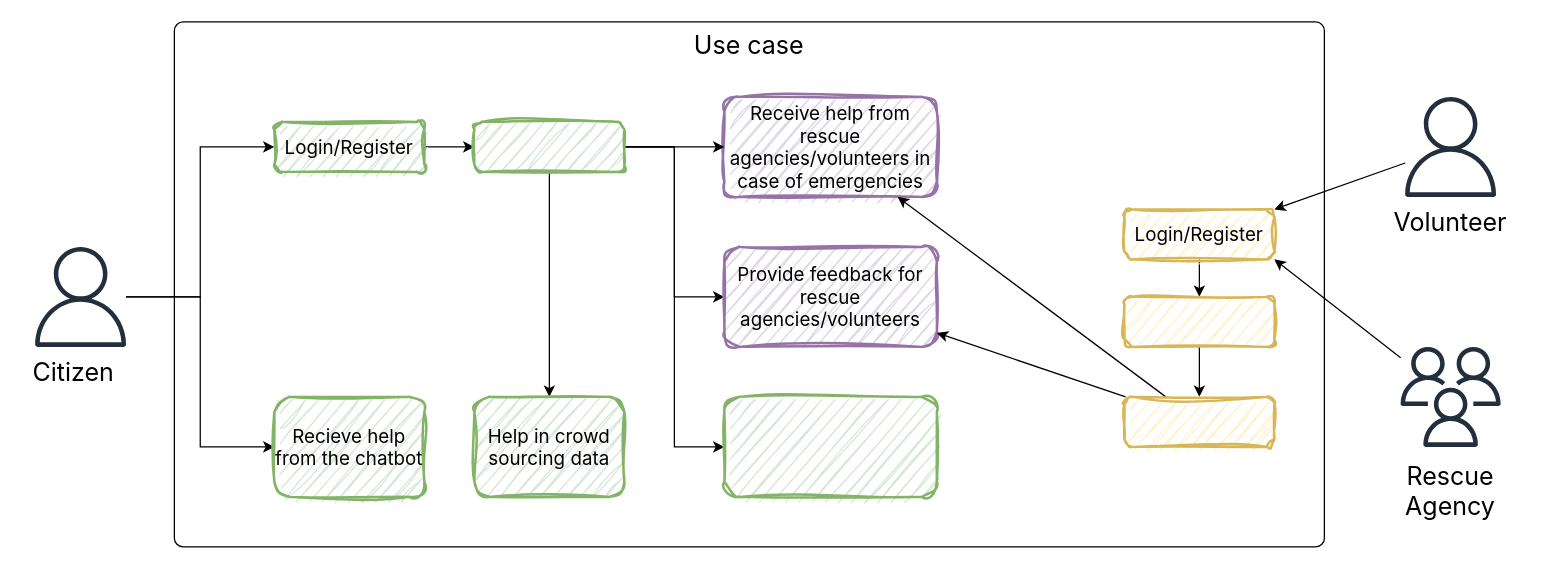
Some shapes in this 1548 by 569 pixel diagram are drawn without their labels. The centre of each missing label's shape, as x and y in pixels:
Get verified: the point at 1198,321
Participate in community forums: the point at 830,446
Provide a listing: the point at 1198,421
Provide contact information: the point at 548,146
